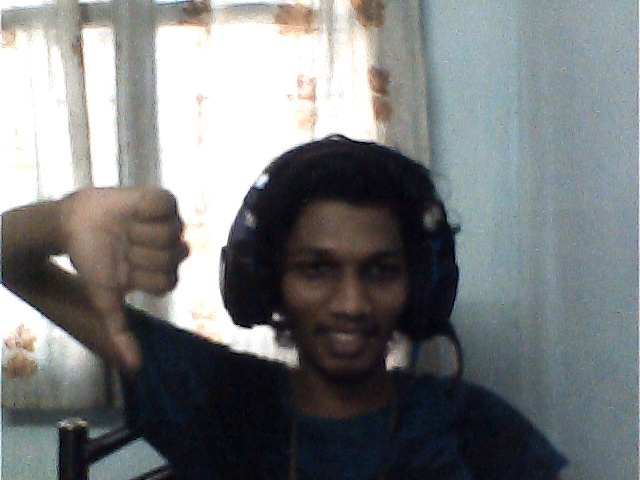ThumbsDown: (70, 186, 191, 372)
